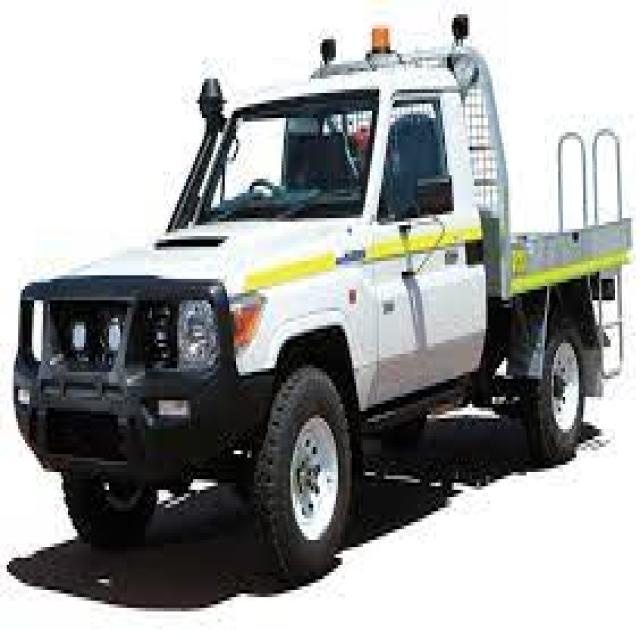light_vehicle: (9, 29, 636, 582)
